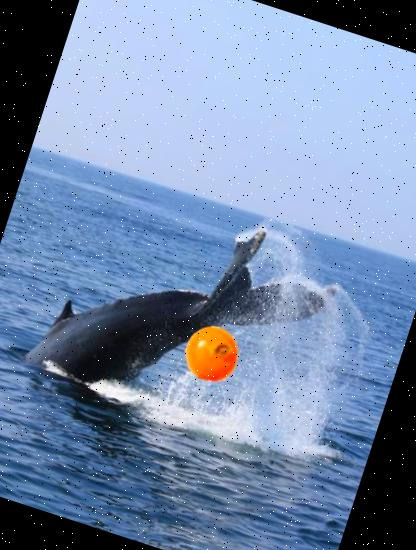Physalis: (177, 319, 246, 388)
